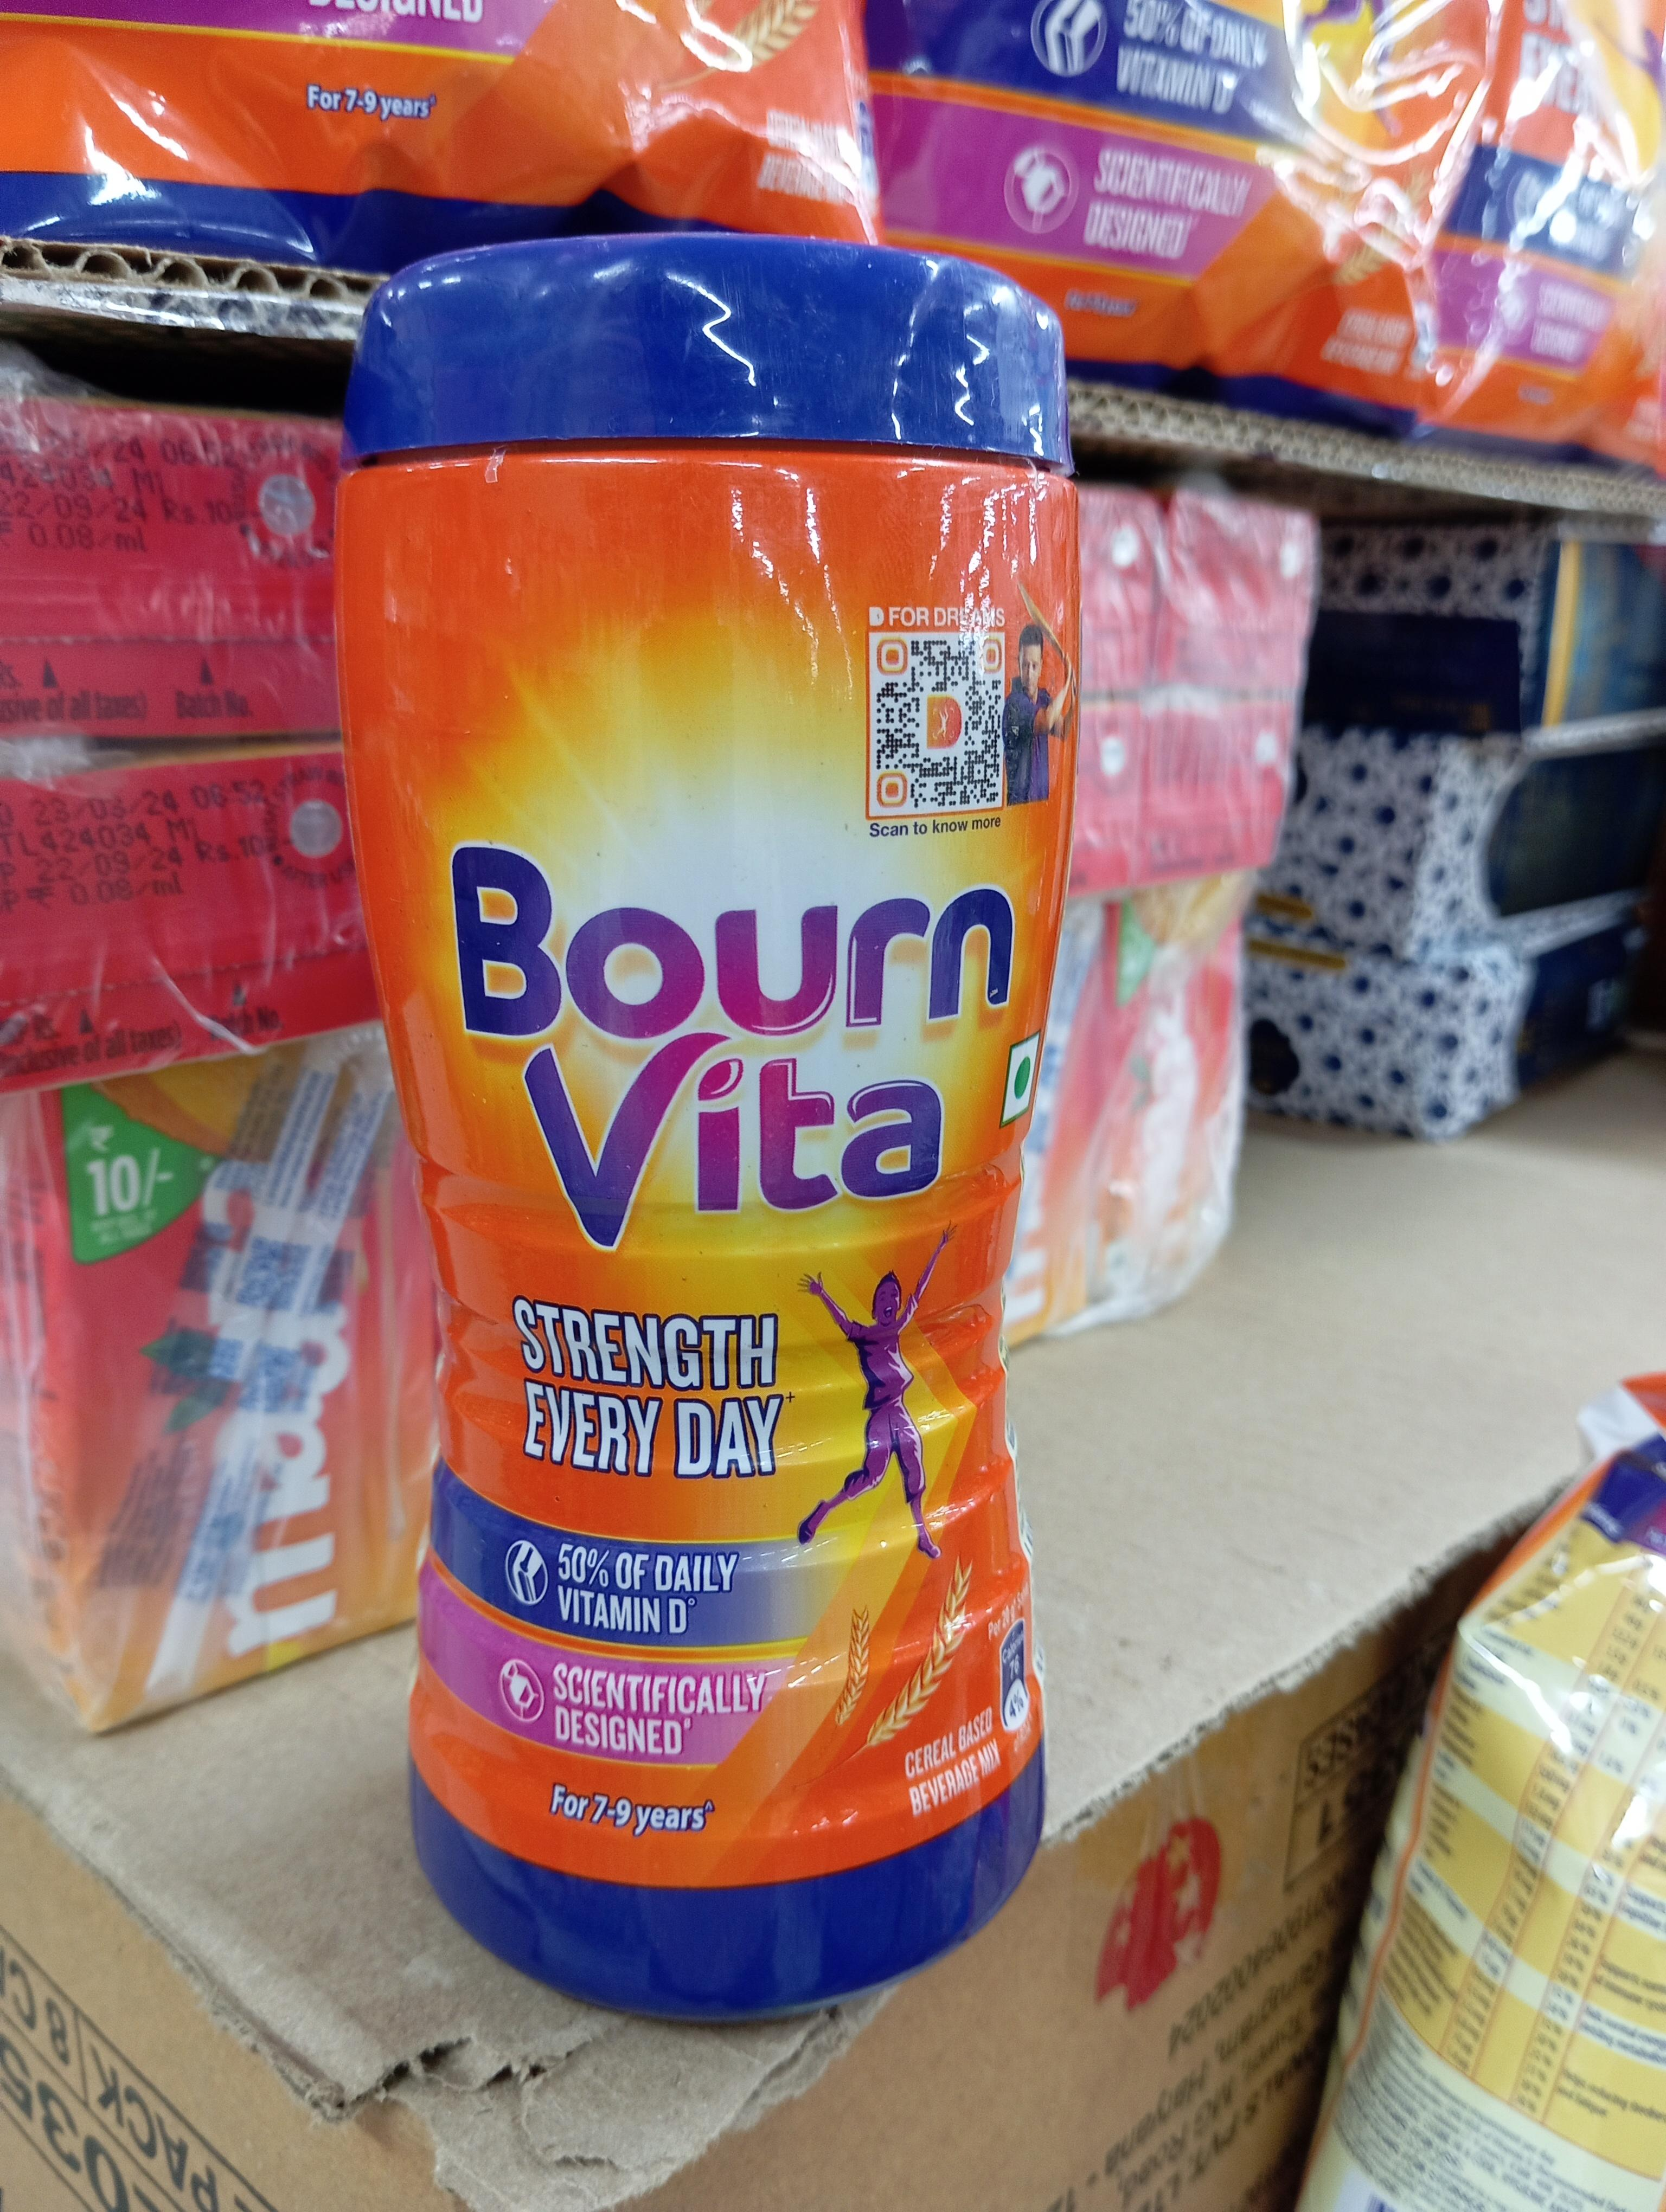BOURN_VITA_200_G_JAR: (341, 227, 1046, 1974)
